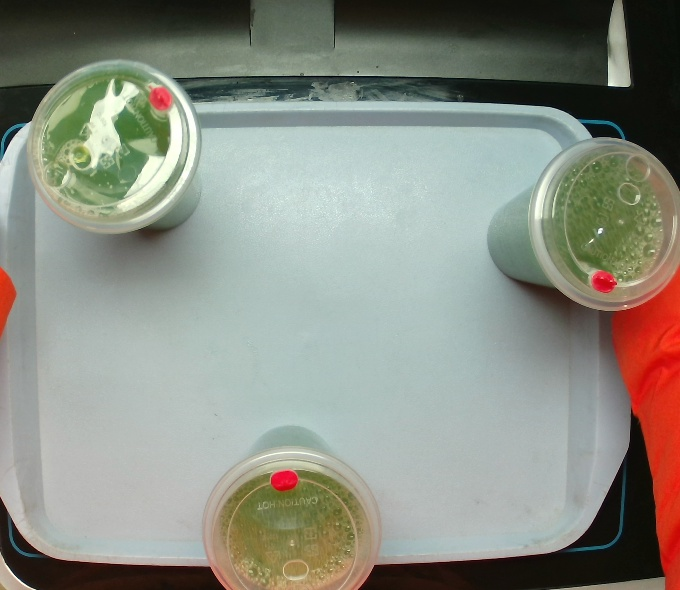wcq-HuangGuaZhi: (485, 135, 680, 313), (23, 56, 204, 237), (198, 423, 383, 590)
